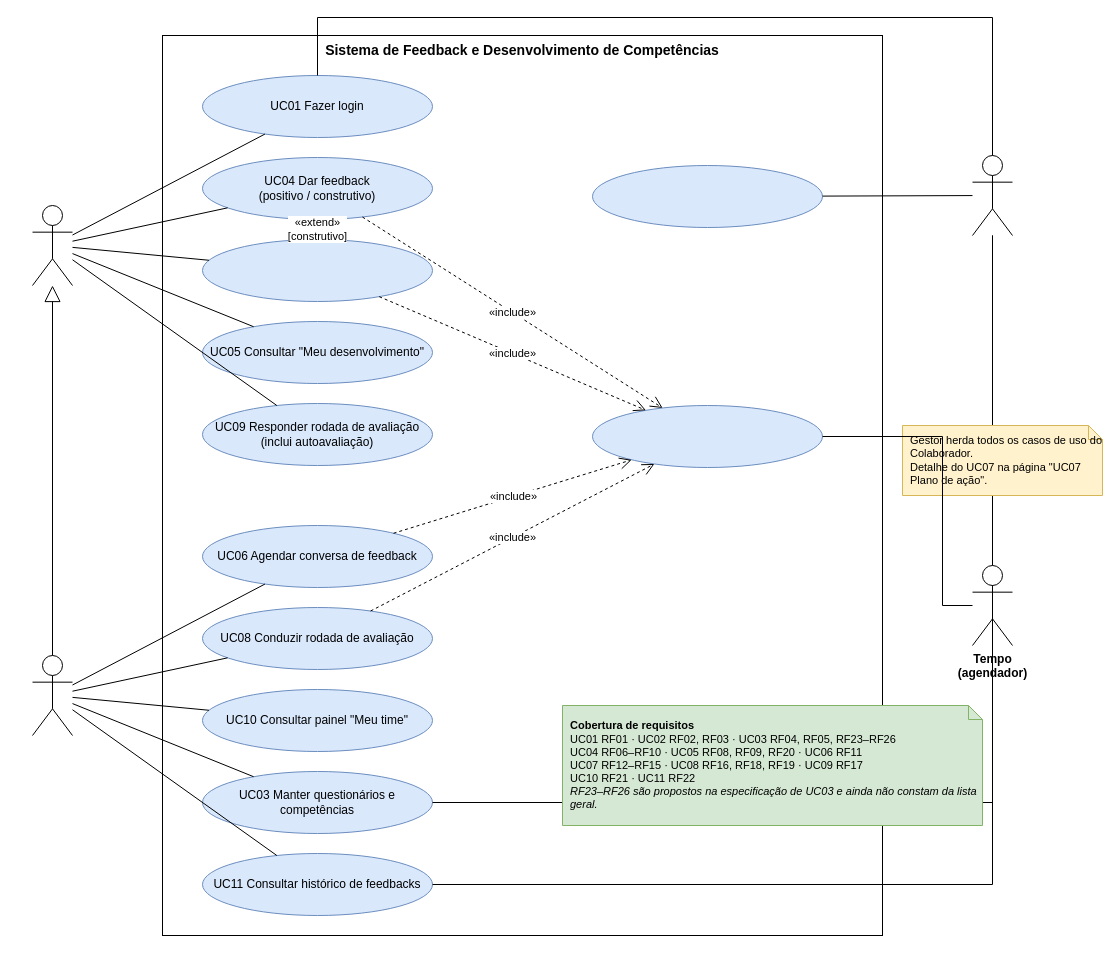
Some shapes in this 1120 by 953 pixel diagram are drawn without their labels. Here are the shapes that lost their labels. From the top down, the centre of each, then its label:
At point (707, 196): "UC02 Manter usuários e times".
At point (992, 195): "RH".
At point (52, 245): "Colaborador".
At point (317, 270): "UC07 Gerenciar plano de ação".
At point (707, 436): "Notificar participantes (na plataforma)".
At point (52, 695): "Gestor".
